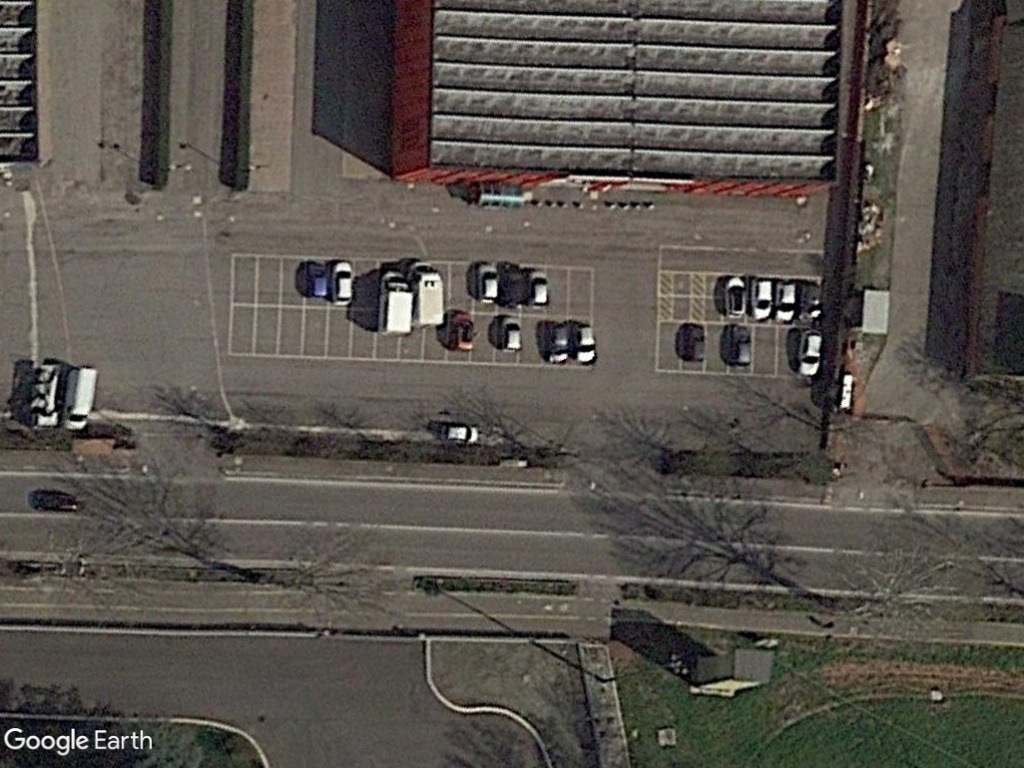car: (793, 326, 829, 380), (726, 321, 758, 372), (471, 257, 501, 309), (680, 318, 710, 369), (748, 275, 777, 326), (435, 420, 486, 449), (770, 277, 800, 326), (330, 257, 357, 311), (718, 272, 748, 320), (572, 318, 600, 368), (524, 265, 554, 311), (544, 321, 573, 368), (498, 311, 525, 355), (307, 260, 333, 304)
other: (446, 308, 480, 354)
truck: (374, 265, 416, 340), (413, 263, 450, 333)
van: (58, 358, 102, 436)
